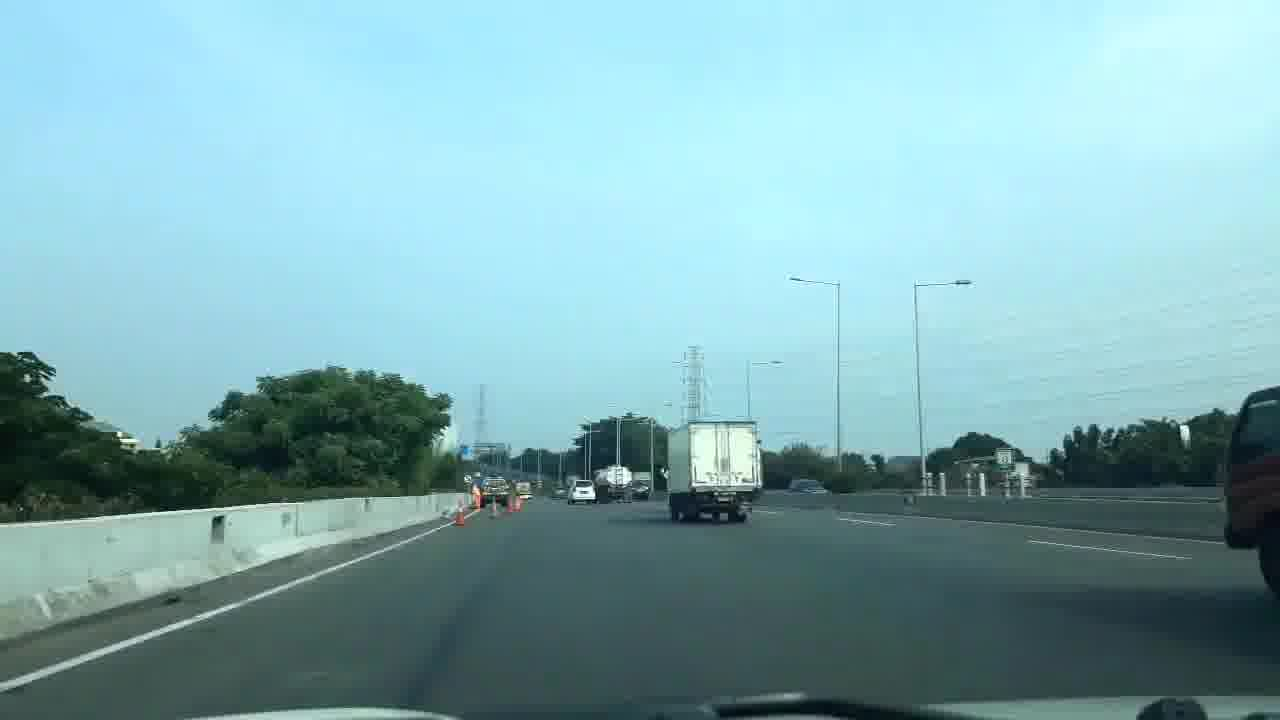plate_positive: (716, 496, 736, 503)
